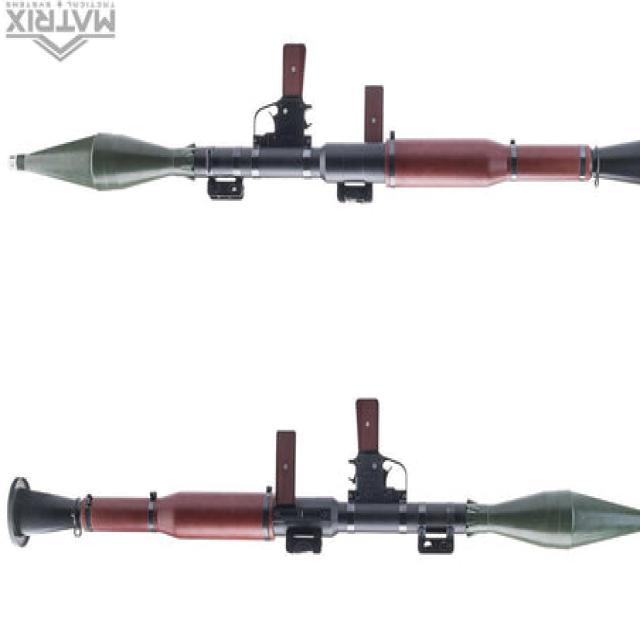Gun: (0, 51, 640, 237), (0, 405, 640, 564)
